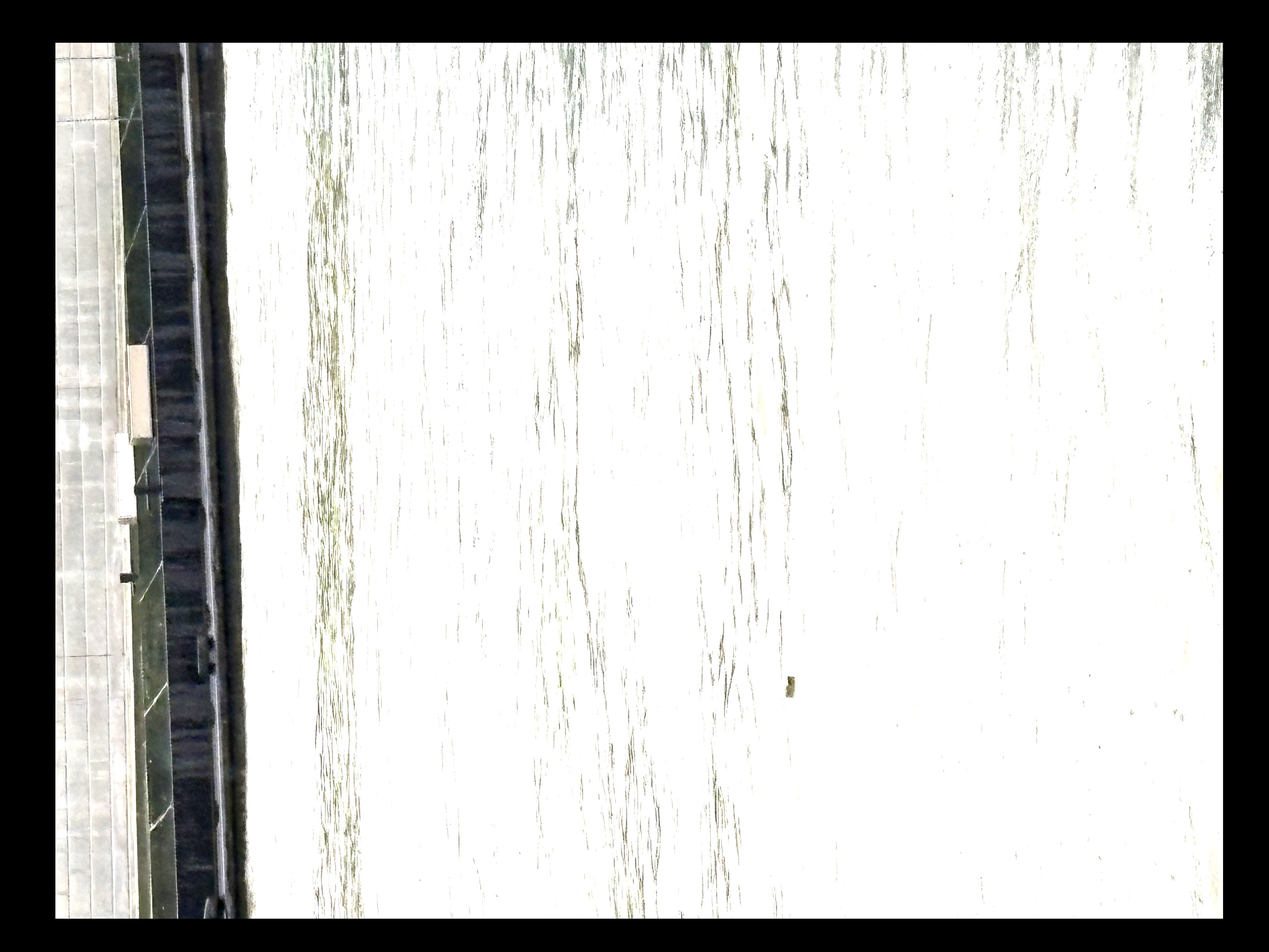Plastic wastes: (792, 666, 819, 690)
